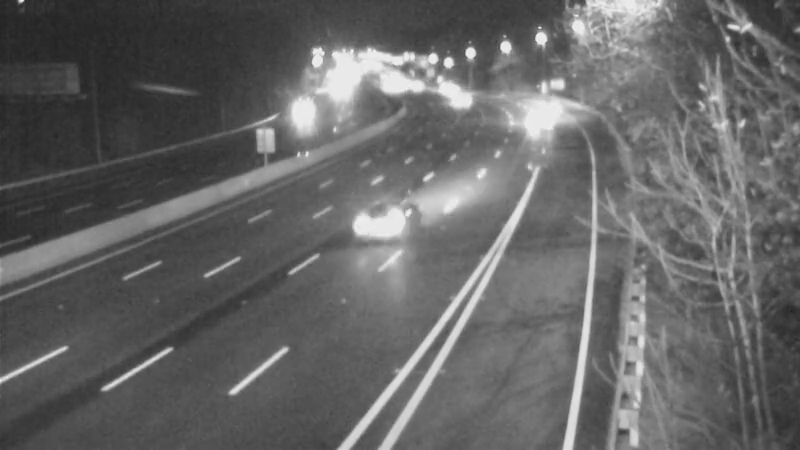vehicle: (333, 191, 413, 271), (435, 77, 485, 127), (519, 86, 569, 136), (510, 97, 560, 147), (273, 90, 323, 140)
